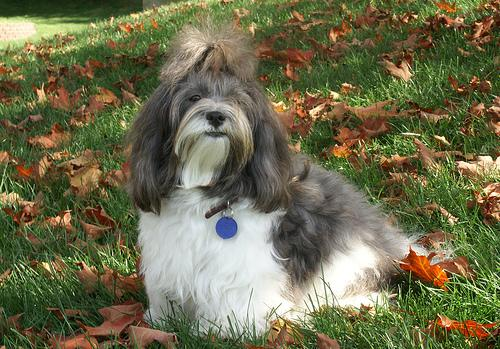dog: (131, 73, 290, 209)
